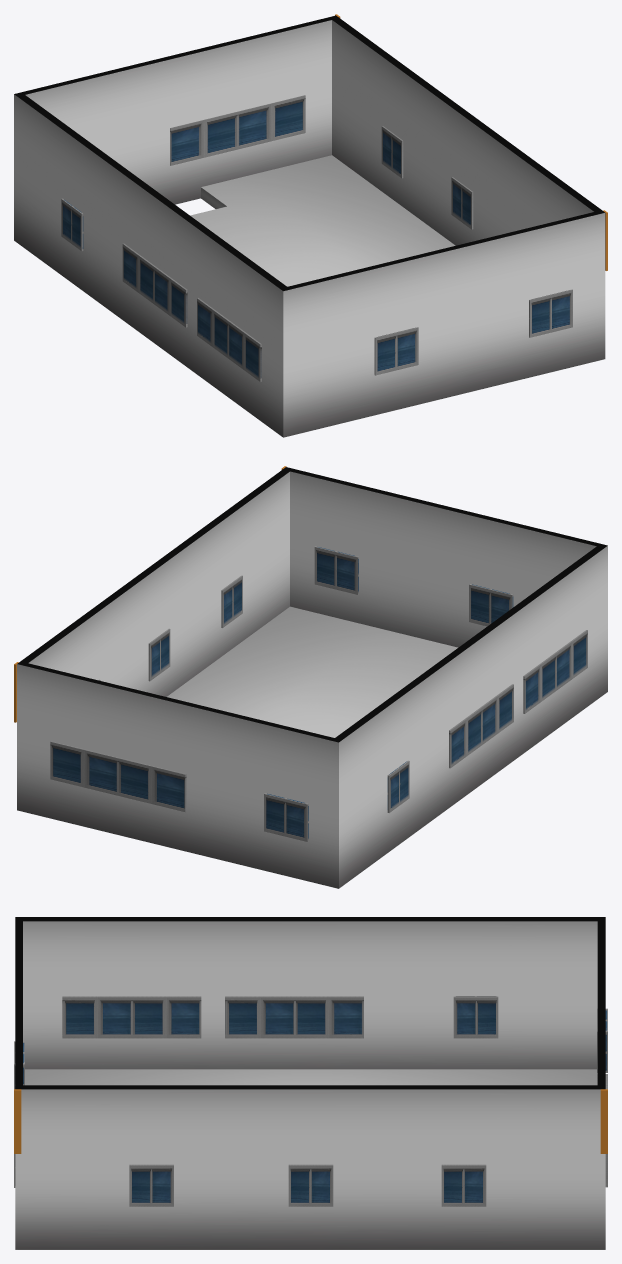
File: soulbrain_T8-office-2F.glb
3 renders of one model, top to bottom at view 1: azimuth 30°, elevation 25°; view 2: azimuth 150°, elevation 25°; view 3: azimuth 270°, elevation 25°, orthographic. The views are drawn at different scales.
Visible parts, largest first — view 1: T8-office-2F, Box1742, Box1698; view 2: T8-office-2F, Box1742, Box1698; view 3: T8-office-2F, Box1698, Box1742.
Part boxes in pixels (x1,y1,x2,y2): T8-office-2F: (14, 14, 607, 437); Box1742: (190, 155, 455, 286); Box1698: (61, 95, 572, 381); T8-office-2F: (14, 466, 607, 888); Box1742: (167, 606, 457, 737); Box1698: (50, 546, 587, 841); T8-office-2F: (14, 917, 607, 1249); Box1698: (14, 996, 607, 1206); Box1742: (25, 1069, 597, 1085).
Bounding box in the file's own units: 9.1 × 3.91 × 13.12.
Materials: 5 (4 with a texture image).
